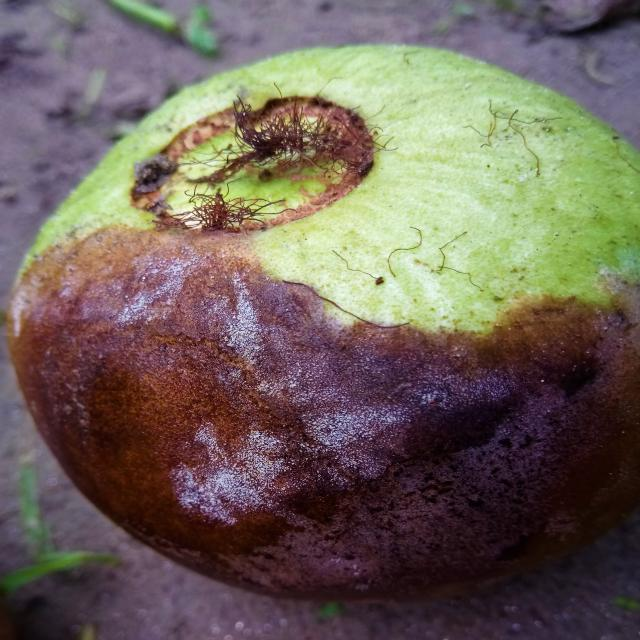Styler and Root: (10, 46, 638, 600)
